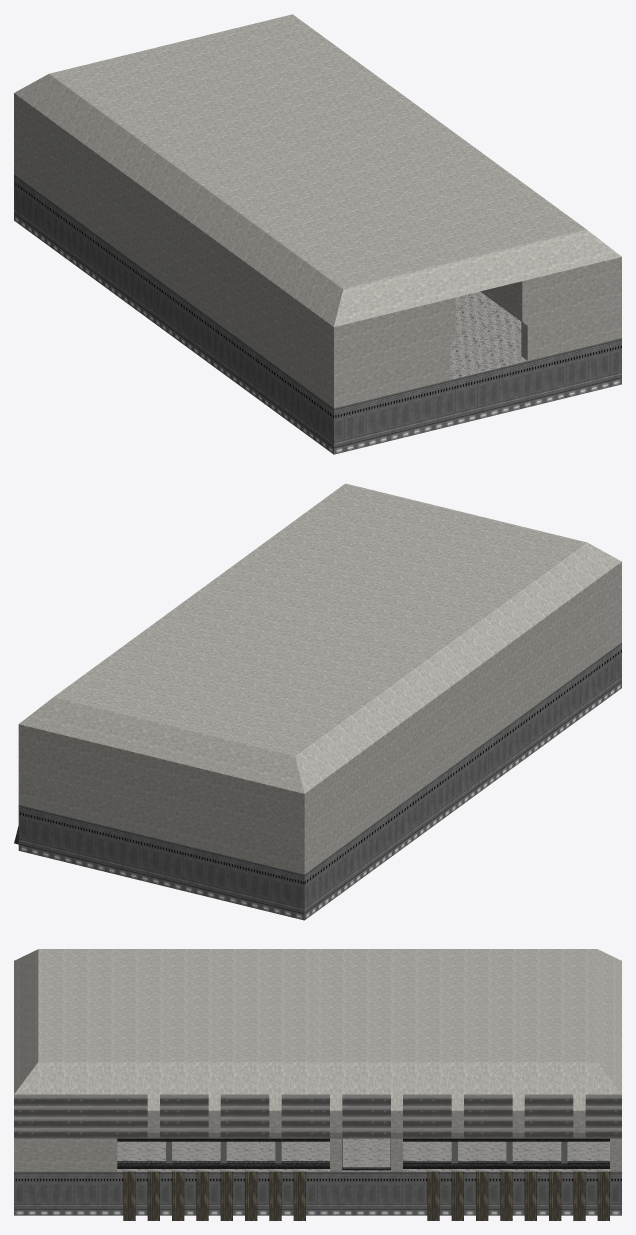
Rendered from bunker_optimized.obj.
The picture shows the model from 3 angles, top to bottom: view 1: azimuth 30°, elevation 25°; view 2: azimuth 150°, elevation 25°; view 3: azimuth 270°, elevation 25°; orthographic projection. The views are drawn at different scales.
Visible parts, largest first — view 1: bunker_optimized; view 2: bunker_optimized; view 3: bunker_optimized.
Boxes of the visible parts, left/top/right/bottom form: bunker_optimized: left=14, top=14, right=621, bottom=454; bunker_optimized: left=14, top=483, right=621, bottom=920; bunker_optimized: left=14, top=949, right=621, bottom=1220.
Bounding box in the file's own units: 108 × 52 × 200.
